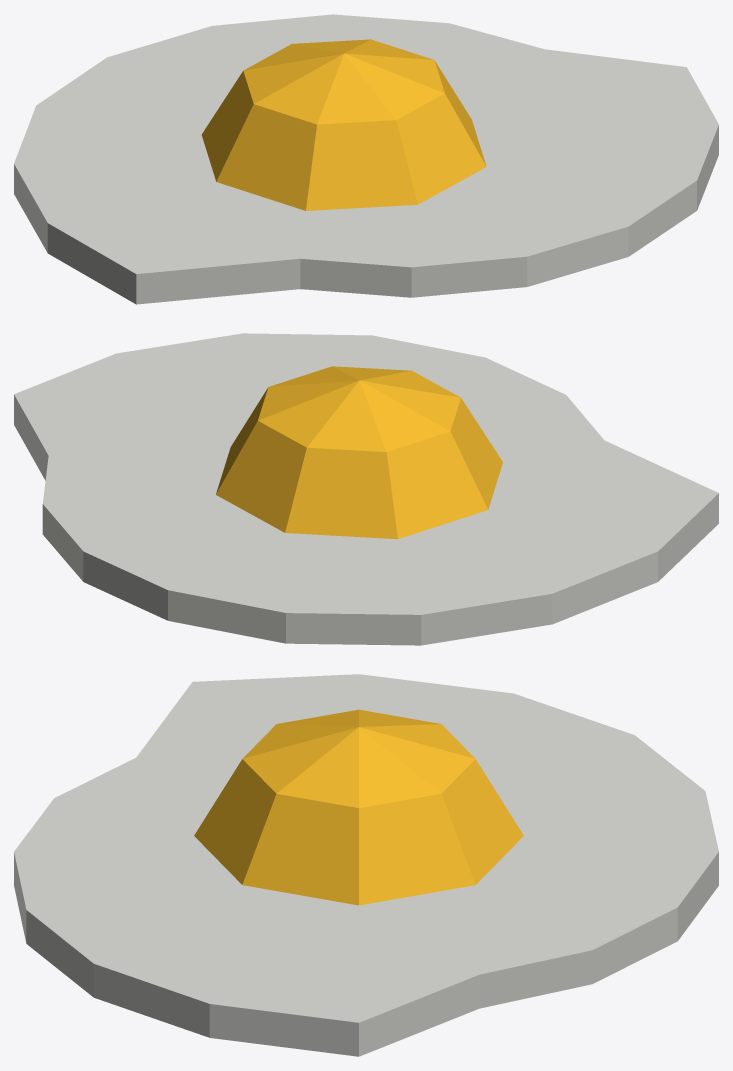
The model's file is Food_FriedEgg.obj.
3 views of the same model, one above another, from view 1: azimuth 30°, elevation 25°; view 2: azimuth 150°, elevation 25°; view 3: azimuth 270°, elevation 25° (orthographic). The views are drawn at different scales.
Bounding box in the file's own units: 2.2 × 0.64 × 1.88.
